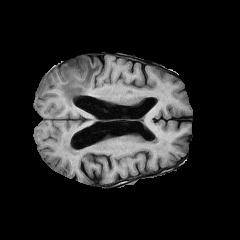glioma: (59, 58, 99, 108)
